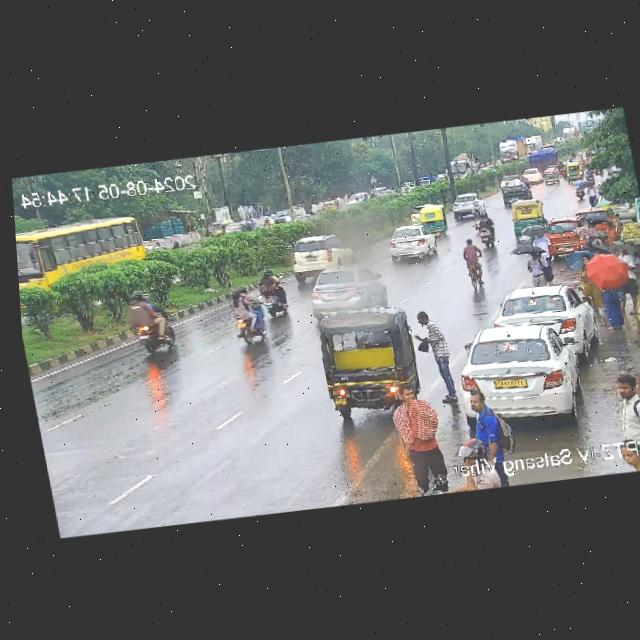bus: (14, 213, 151, 294), (524, 146, 563, 172)
car: (448, 313, 599, 428), (310, 300, 428, 419), (484, 278, 604, 366), (304, 263, 390, 318), (287, 232, 355, 282), (539, 215, 602, 260), (384, 222, 442, 264), (406, 203, 449, 237), (506, 197, 545, 228), (220, 214, 259, 240), (498, 178, 533, 204), (197, 218, 232, 243), (606, 200, 639, 223), (452, 192, 480, 206), (540, 168, 560, 185)
motorcycle: (224, 283, 269, 350), (124, 291, 172, 350), (456, 238, 491, 296), (255, 268, 288, 318), (474, 209, 501, 247)
person: (382, 384, 455, 499), (450, 391, 522, 486), (412, 312, 462, 402), (590, 250, 640, 335), (603, 369, 640, 473), (522, 251, 553, 287)
